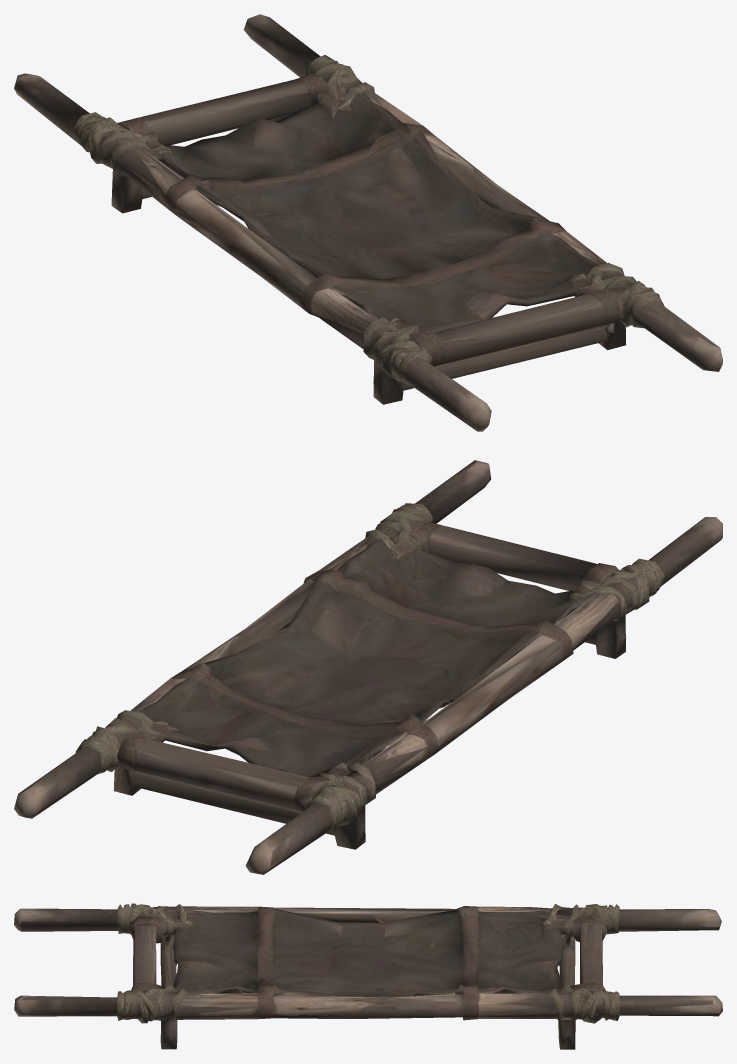
Rendered from barella_lod.gltf.
The picture shows the model from 3 angles, top to bottom: view 1: azimuth 30°, elevation 25°; view 2: azimuth 150°, elevation 25°; view 3: azimuth 270°, elevation 25°; orthographic projection. The views are drawn at different scales.
Parts seen in each view (by area): view 1: Mesh_0; view 2: Mesh_0; view 3: Mesh_0.
Part boxes in pixels (<box>): Mesh_0: <box>14,14,722,431</box>; Mesh_0: <box>14,460,722,874</box>; Mesh_0: <box>14,903,722,1049</box>.
Bounding box in the file's own units: 0.8359 × 0.2315 × 2.5.
Materials: 1 (1 with a texture image).
